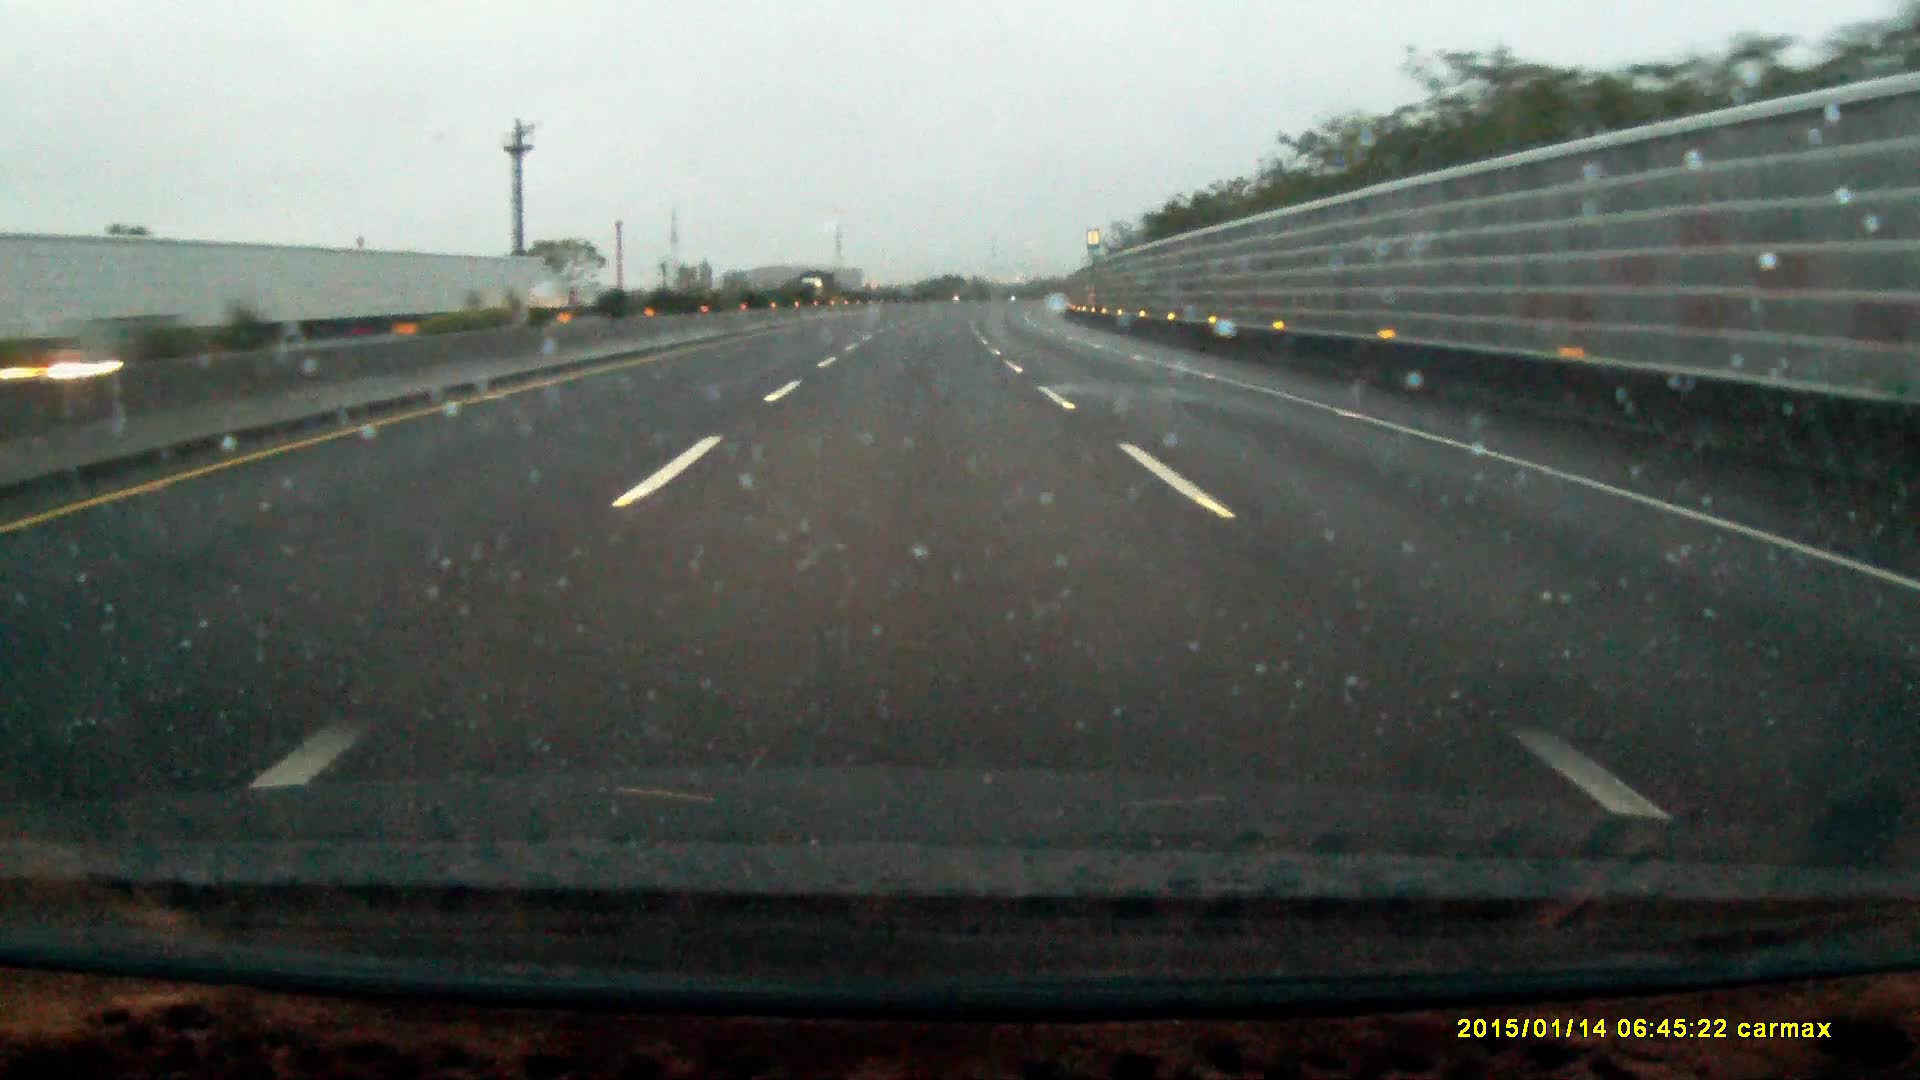vehicle: (799, 268, 836, 303)
